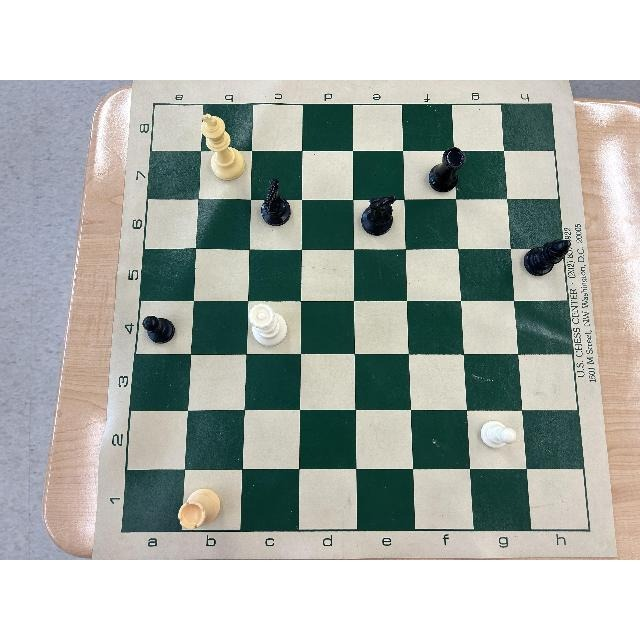black-bishop: (525, 238, 571, 276)
black-knight: (259, 176, 292, 227), (361, 196, 399, 236)
black-pawn: (142, 314, 176, 344)
black-rook: (428, 147, 466, 193)
white-king: (200, 112, 246, 181)
white-pawn: (481, 420, 517, 450)
white-queen: (248, 303, 289, 347)
white-rook: (178, 487, 222, 529)
